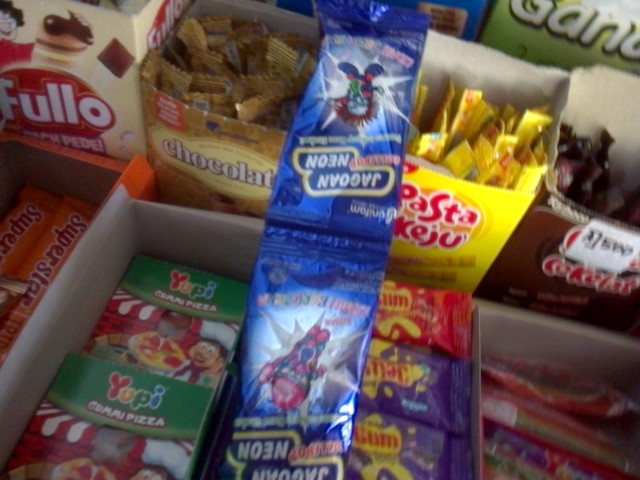jagoan neon: (220, 230, 388, 479), (264, 1, 429, 254)
